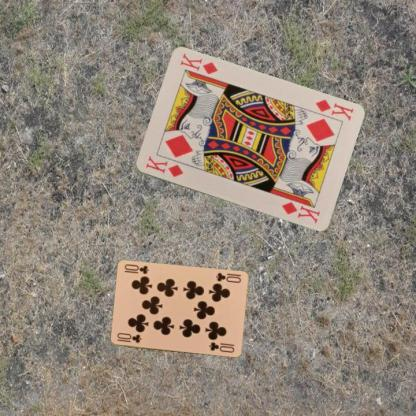10c: (114, 330, 143, 344), (213, 270, 242, 284)
Kd: (312, 96, 354, 122), (143, 153, 184, 179)
